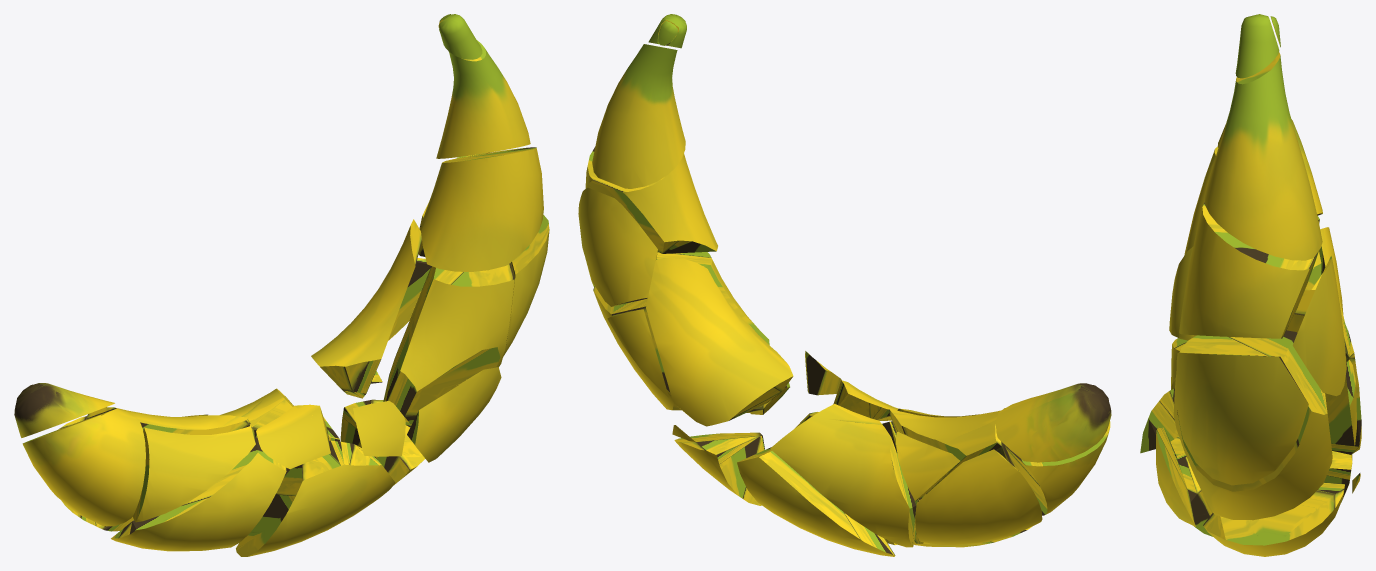
File: pisang - meledak.fbx
The picture shows the model from 3 angles, left to right: view 1: azimuth 30°, elevation 25°; view 2: azimuth 150°, elevation 25°; view 3: azimuth 270°, elevation 25°; orthographic projection. The views are drawn at different scales.
Visible parts, largest first — view 1: Torus_cell.035, Torus_cell.011, Torus_cell.018, Torus_cell.031, Torus_cell.026, Torus_cell.016, Torus_cell.008, Torus_cell.036, Torus_cell.030, Torus_cell.012, Torus_cell.034, Torus_cell.005 (+6 smaller); view 2: Torus_cell.036, Torus_cell, Torus_cell.008, Torus_cell.001, Torus_cell.034, Torus_cell.014, Torus_cell.006, Torus_cell.011, Torus_cell.003, Torus_cell.024, Torus_cell.018, Torus_cell.035 (+4 smaller); view 3: Torus_cell.008, Torus_cell.005, Torus_cell.011, Torus_cell.035, Torus_cell.024, Torus_cell.014, Torus_cell.036, Torus_cell.013, Torus_cell.030, Torus_cell.015, Torus_cell.031, Torus_cell.016 (+7 smaller).
Boxes of the visible parts, x1,y1,x2,y2 form: Torus_cell.035: [383, 263, 514, 427]; Torus_cell.011: [421, 147, 543, 271]; Torus_cell.018: [22, 408, 145, 526]; Torus_cell.031: [236, 440, 395, 556]; Torus_cell.026: [111, 436, 286, 551]; Torus_cell.016: [132, 426, 255, 522]; Torus_cell.008: [436, 40, 530, 158]; Torus_cell.036: [311, 219, 421, 398]; Torus_cell.030: [407, 367, 501, 462]; Torus_cell.012: [256, 404, 330, 469]; Torus_cell.034: [14, 383, 114, 437]; Torus_cell.005: [503, 215, 549, 356]; Torus_cell.036: [646, 258, 793, 426]; Torus_cell: [770, 404, 916, 547]; Torus_cell.008: [592, 44, 685, 188]; Torus_cell.001: [915, 449, 1042, 544]; Torus_cell.034: [996, 383, 1111, 462]; Torus_cell.014: [578, 187, 657, 306]; Torus_cell.006: [737, 447, 895, 556]; Torus_cell.011: [585, 147, 717, 253]; Torus_cell.003: [889, 409, 1014, 498]; Torus_cell.024: [674, 432, 764, 505]; Torus_cell.018: [1004, 408, 1110, 515]; Torus_cell.035: [593, 252, 769, 410]; Torus_cell.008: [1204, 52, 1322, 260]; Torus_cell.005: [1175, 352, 1308, 485]; Torus_cell.011: [1179, 202, 1318, 338]; Torus_cell.035: [1173, 330, 1332, 520]; Torus_cell.024: [1203, 482, 1344, 556]; Torus_cell.014: [1292, 256, 1346, 396]; Torus_cell.036: [1287, 290, 1361, 454]; Torus_cell.013: [1235, 14, 1279, 78]; Torus_cell.030: [1156, 427, 1195, 526]; Torus_cell.015: [1140, 388, 1178, 453]; Torus_cell.031: [1170, 436, 1212, 536]; Torus_cell.016: [1169, 247, 1196, 340].
Size of the model in its own units: 233 by 204 by 65.47.
